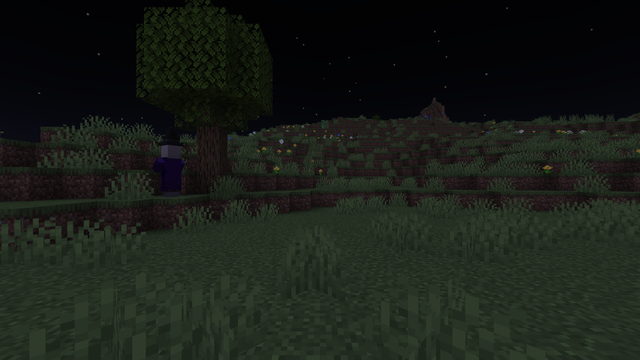creepers: (321, 119, 324, 126)
sorcieres: (157, 142, 182, 196)
